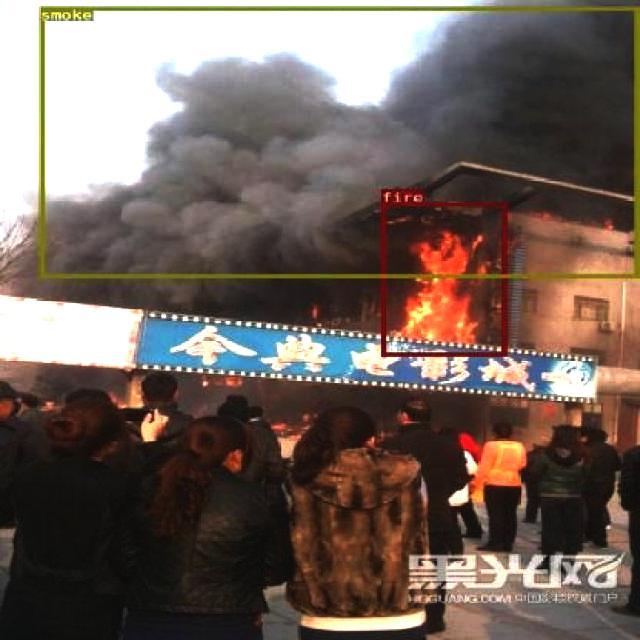fire: (380, 202, 506, 356)
smoke: (38, 6, 638, 277)
